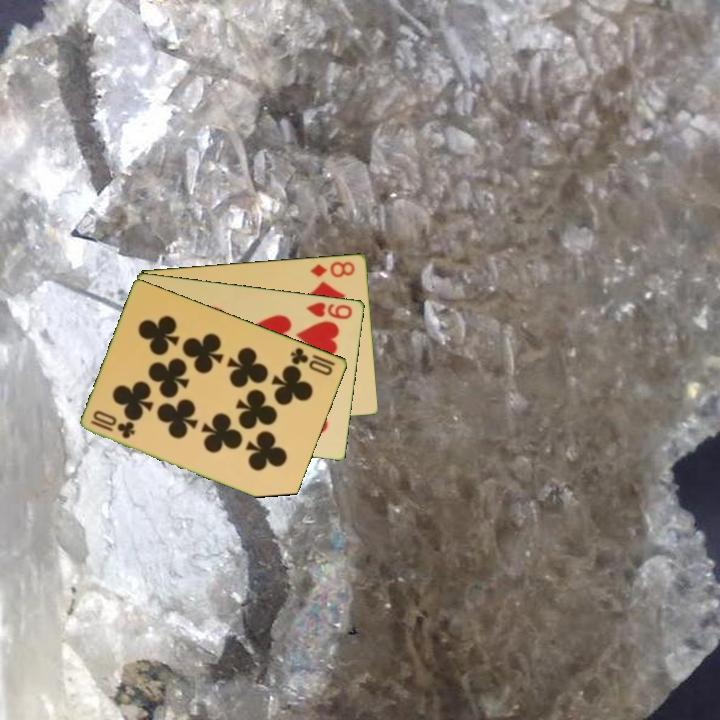10c: (287, 344, 338, 378), (87, 407, 138, 441)
8d: (307, 258, 358, 280)
9h: (303, 298, 355, 322)
